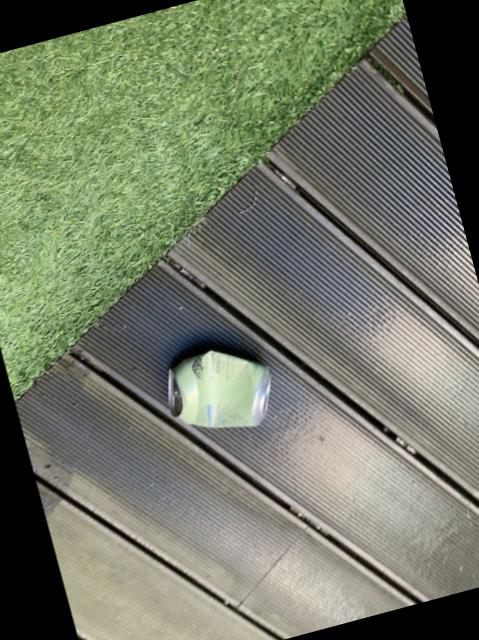metal: (166, 352, 268, 429)
